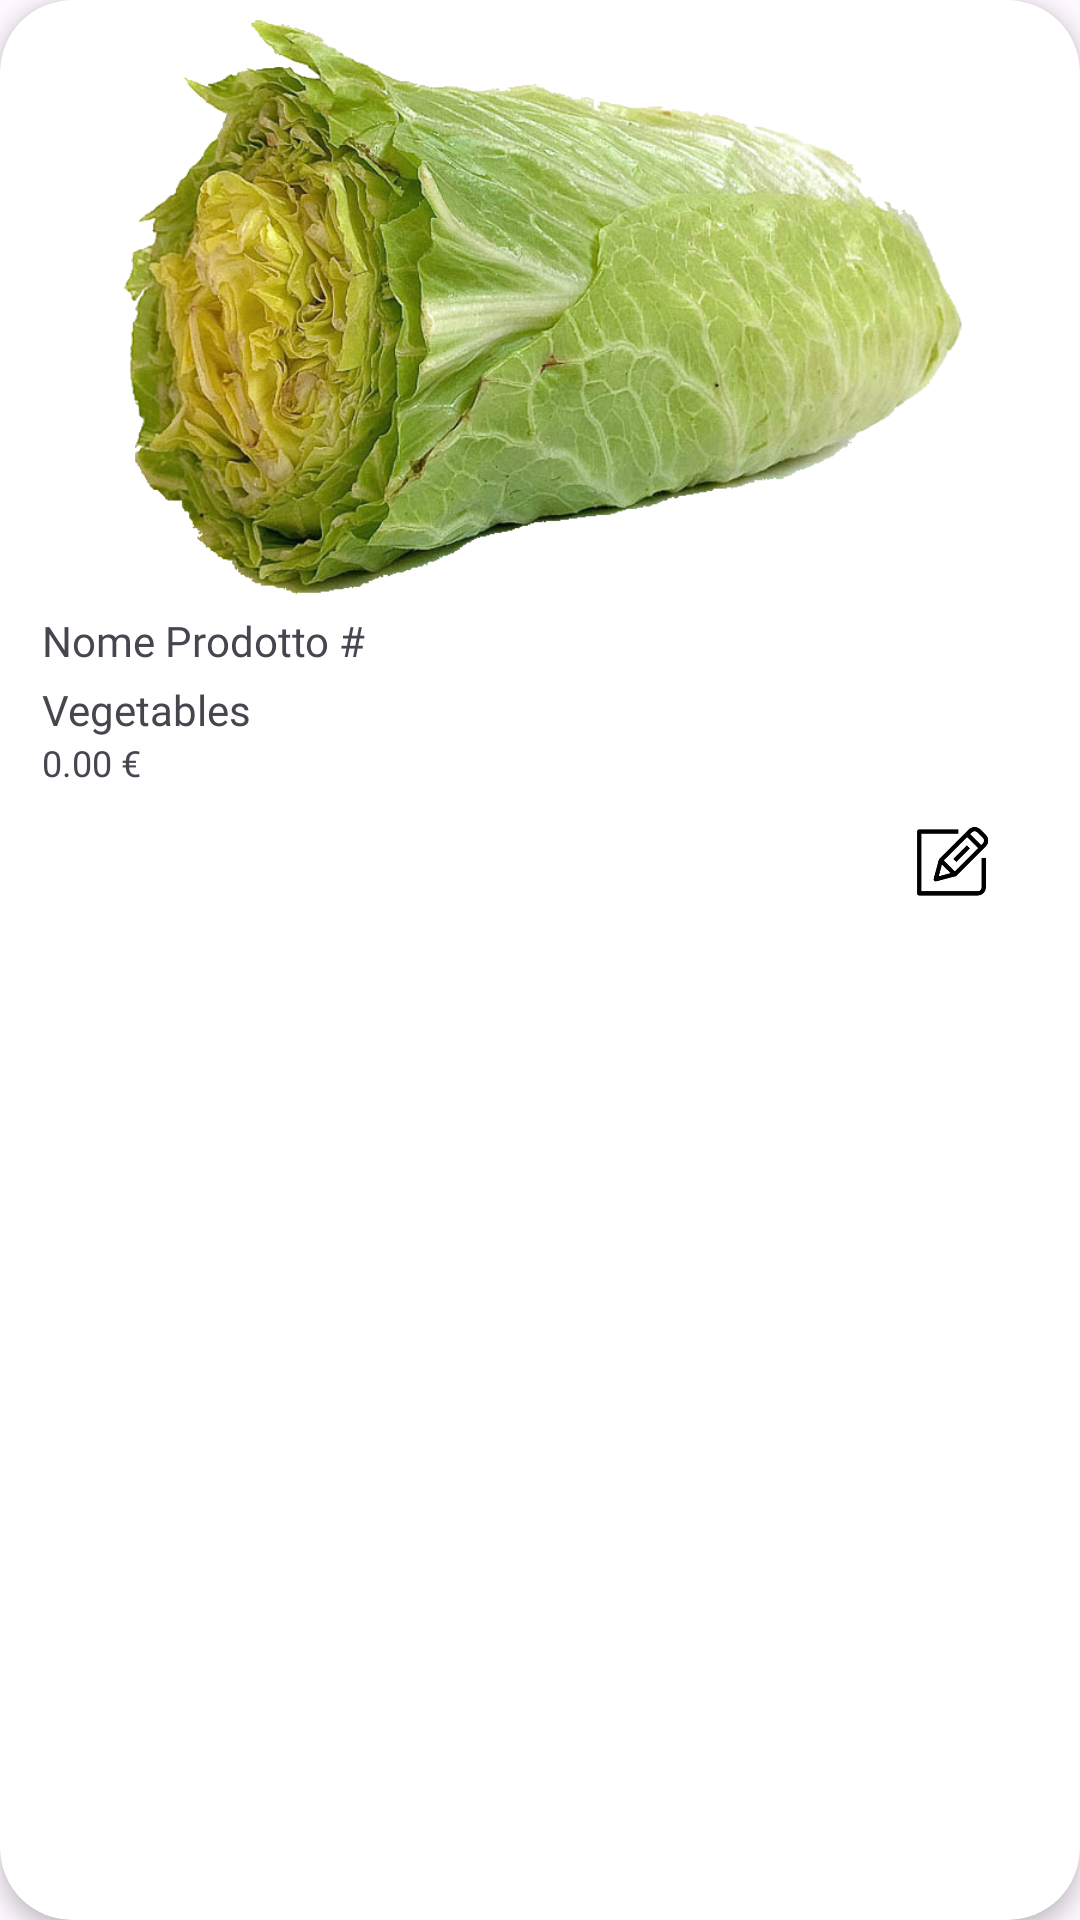

Named icons in this screenshot (1080x1920) and their bounding boxes, (x1, y1, x2, y2):
edit: (917, 827, 988, 896)
